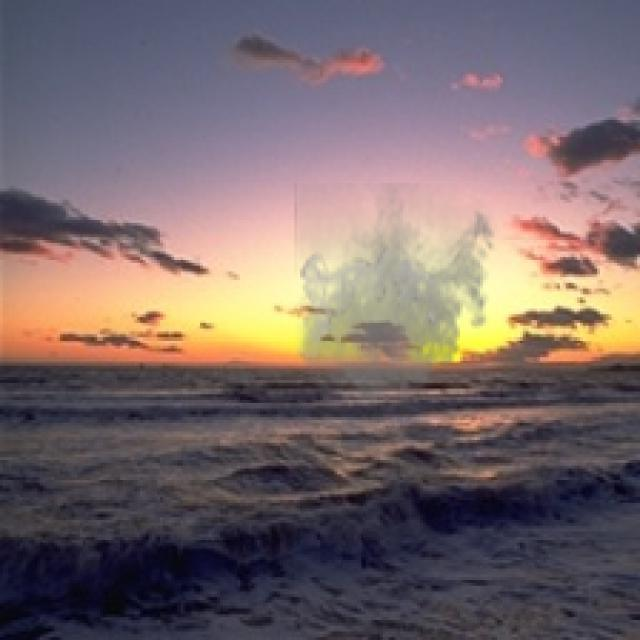Smoke: (294, 183, 500, 420)
